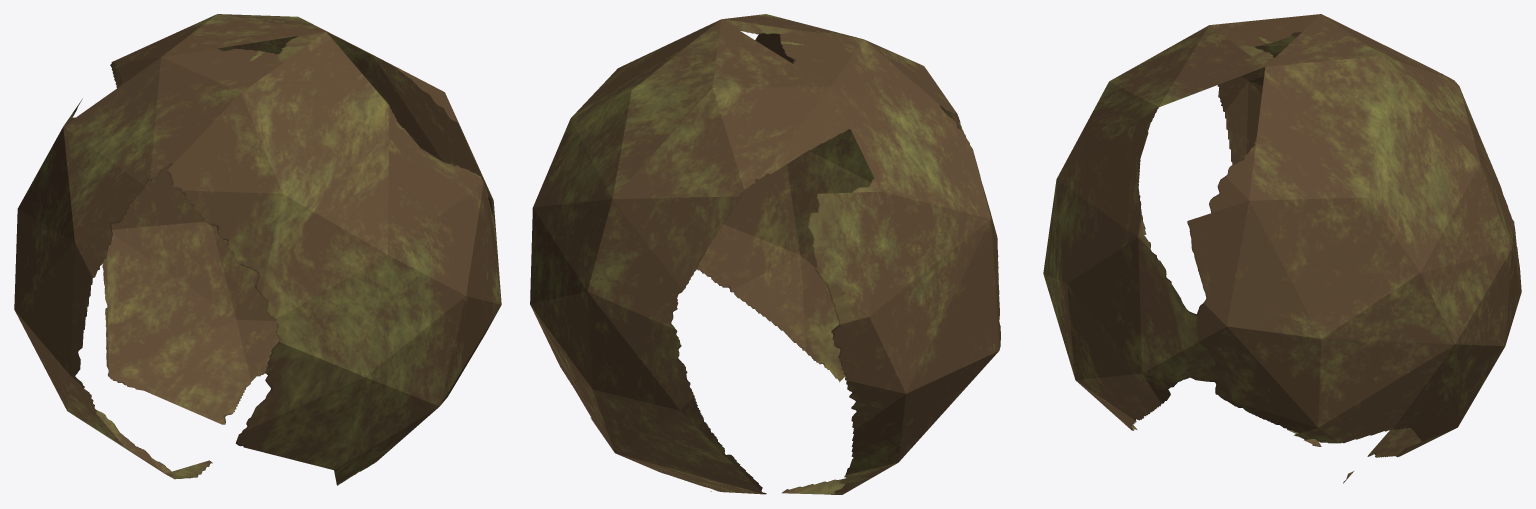
Rendered from BiomeOrb.fbx.
3 renders of one model, left to right at view 1: azimuth 30°, elevation 25°; view 2: azimuth 150°, elevation 25°; view 3: azimuth 270°, elevation 25°, orthographic. The views are drawn at different scales.
Visible parts, largest first — view 1: BiomeOrb; view 2: BiomeOrb; view 3: BiomeOrb.
Part boxes in pixels (box(x1,y1,x2,y2)): BiomeOrb: box(14, 14, 501, 485); BiomeOrb: box(530, 14, 1000, 494); BiomeOrb: box(1043, 14, 1521, 483).
Bounding box in the file's own units: 199 × 197 × 199.
Materials: 1 (1 with a texture image).
